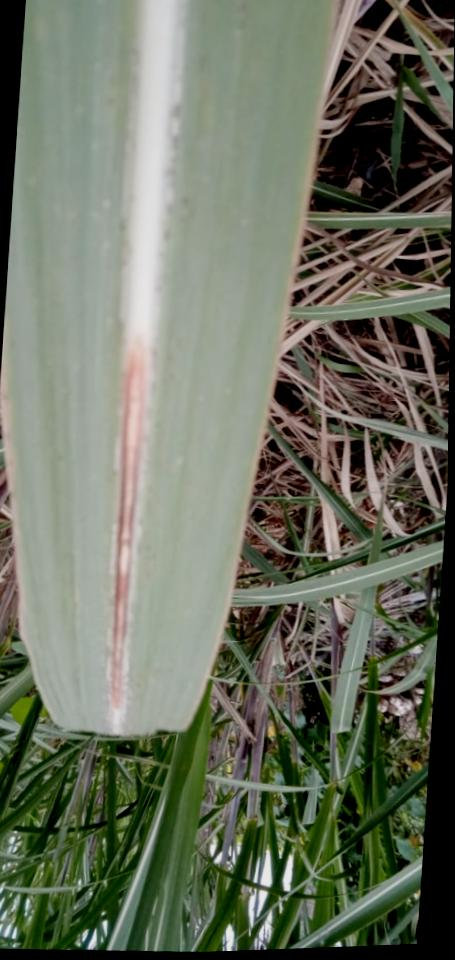RedRot: (105, 353, 149, 713)
